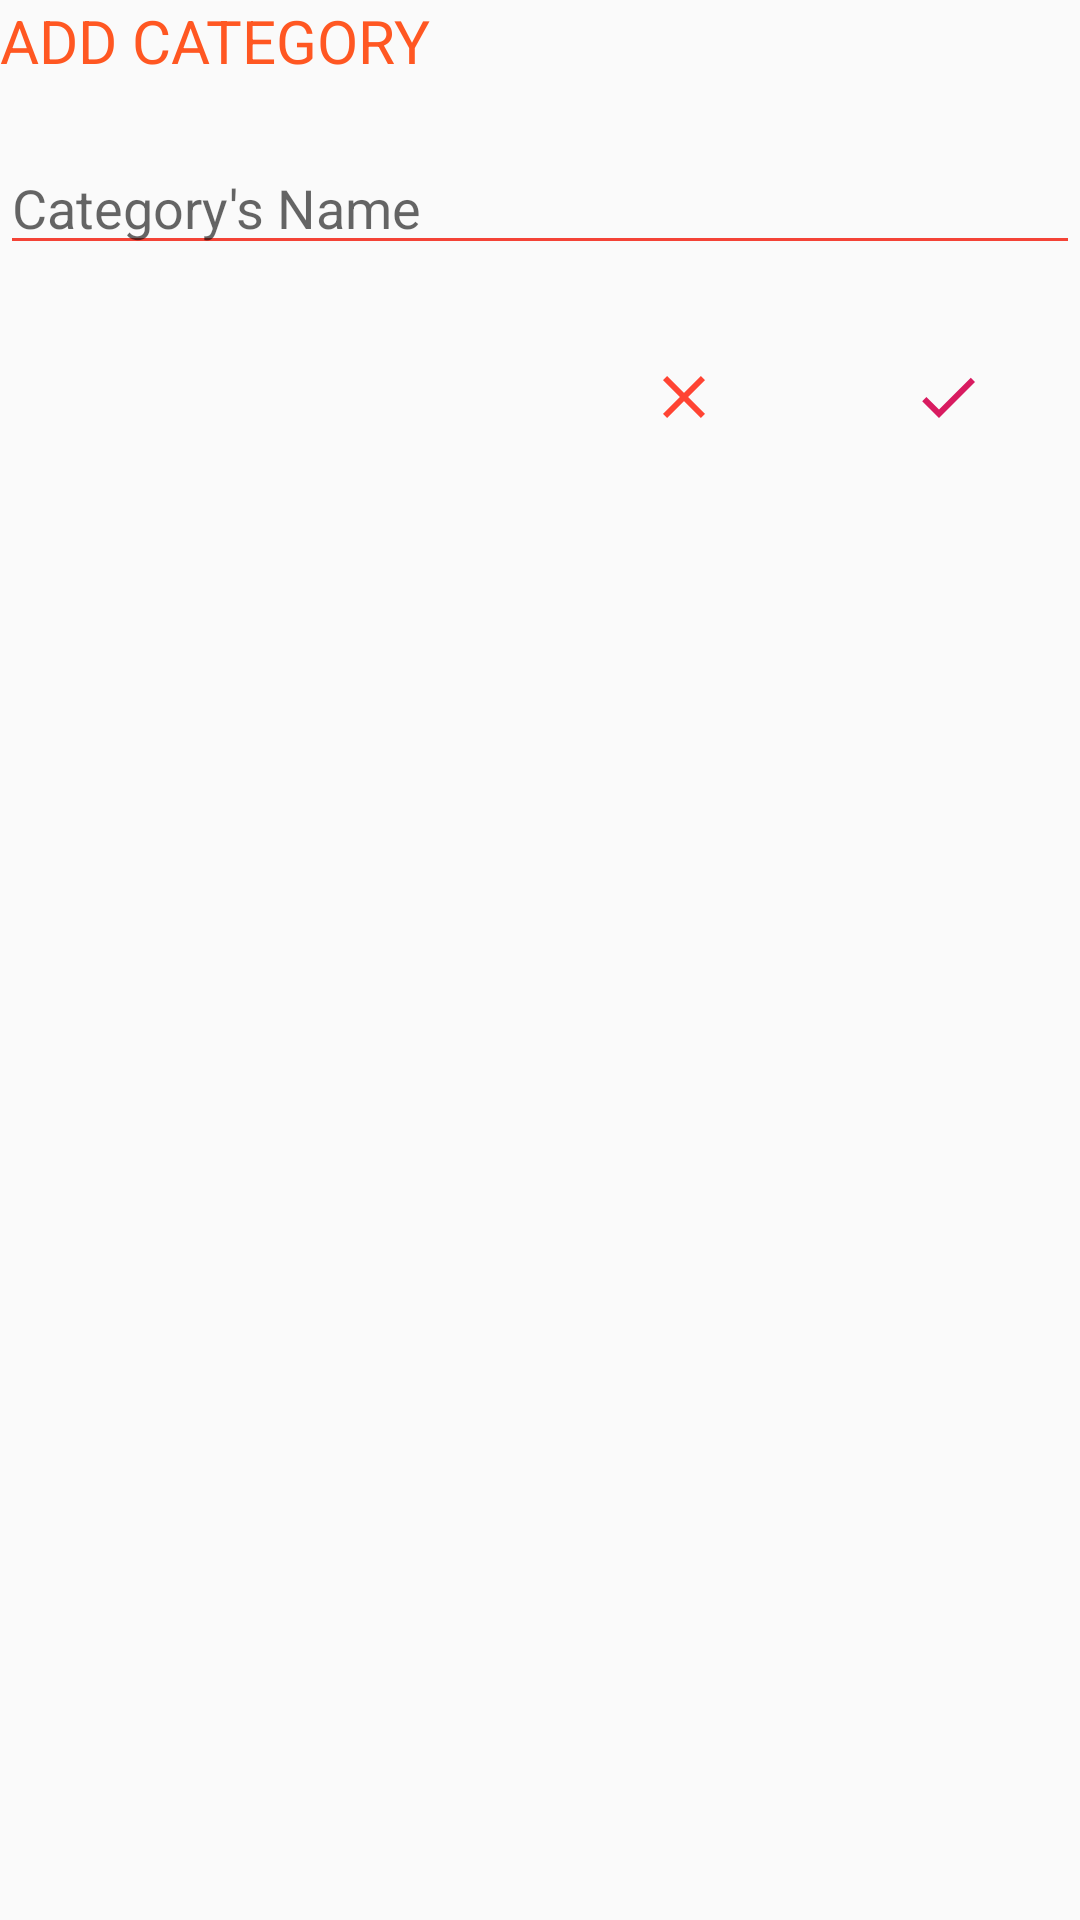

Icon click points for this 1080*1920 phone screenshot, format point (x, y):
cancel: point (684, 397)
confirm: point (948, 398)
